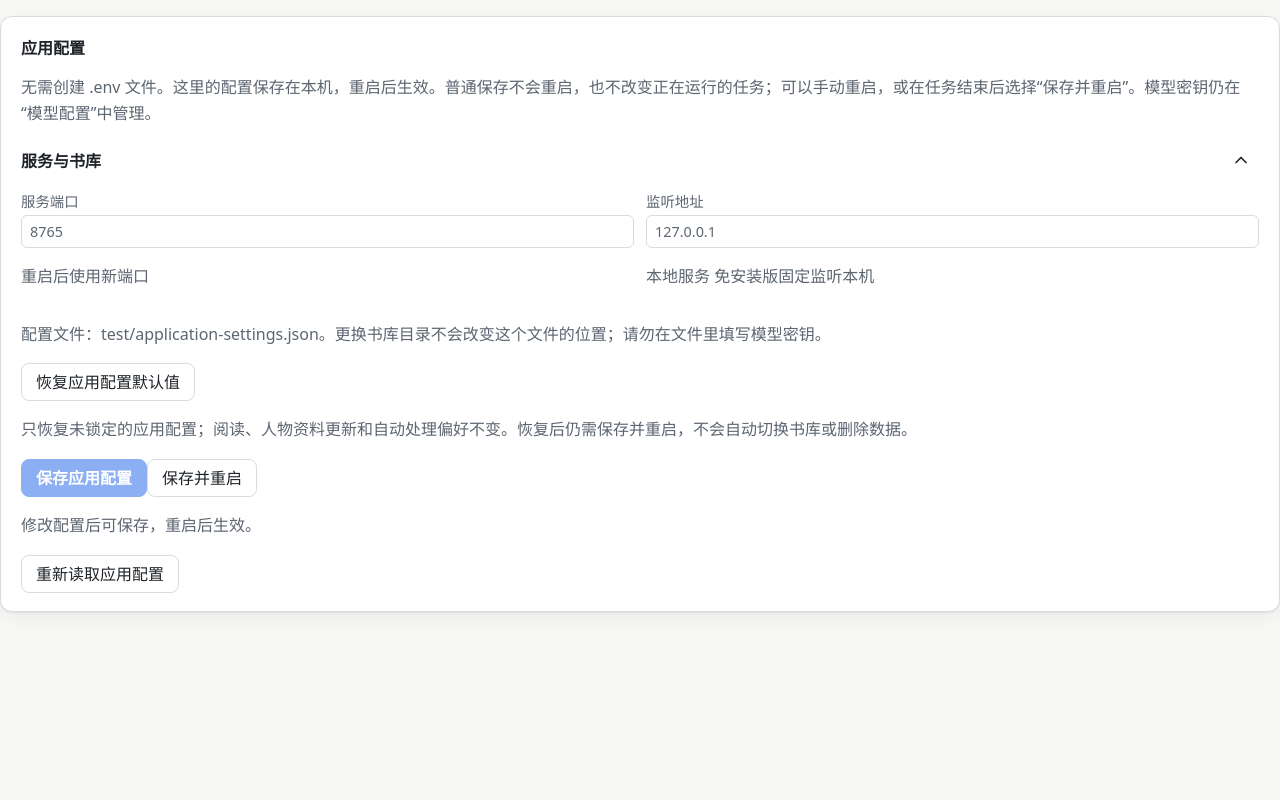
Test: 编辑不自动保存，保存显示待重启状态和新端口
Expected: the field labelled "监听地址" is disabled, [646,215,1259,248]
Expected: the text "本地服务 免安装版固定监听本机" is shown, [646,265,874,287]
Replace the text in the number field labelled "服务端口" with "8800" at coordinates (328, 232), box [21,215,634,248]
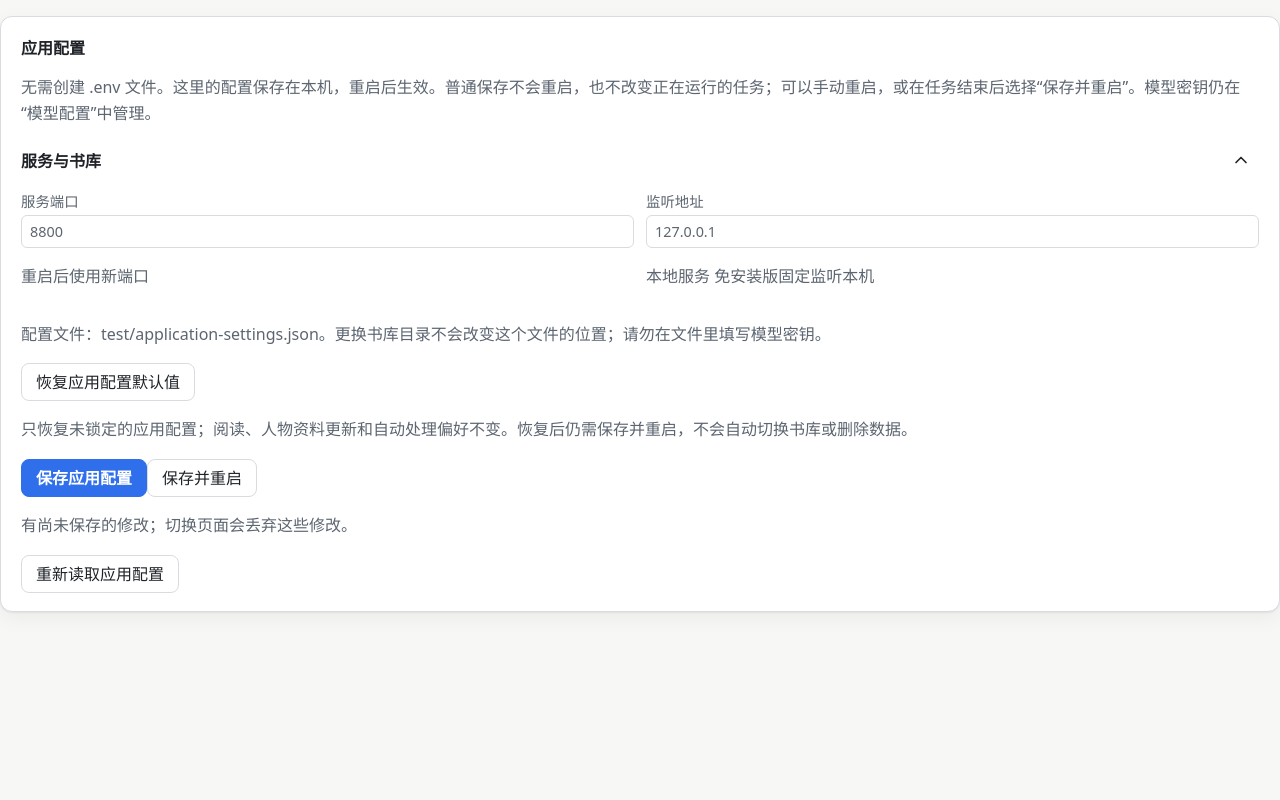
Click the button "保存应用配置".
click(84, 478)  # box [21,459,147,497]
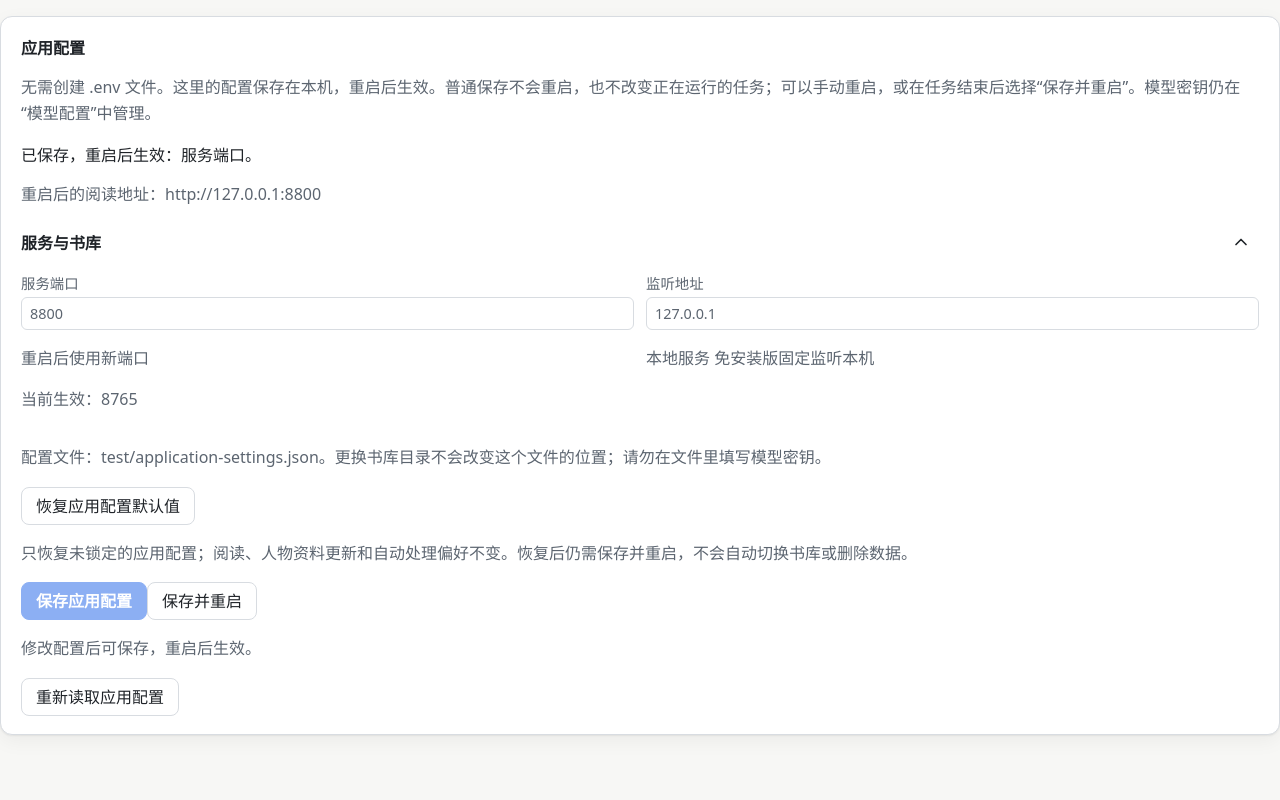
Expected: the text "已保存，重启后生效：服务端口。" is shown, [21,144,261,166]
Expected: the text "重启后的阅读地址：http://127.0.0.1:8800" is shown, [21,183,321,205]
